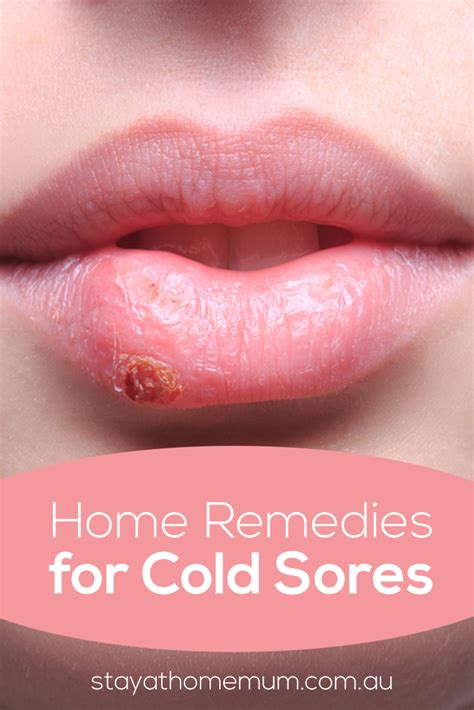Cold Sore: (107, 345, 185, 408)
